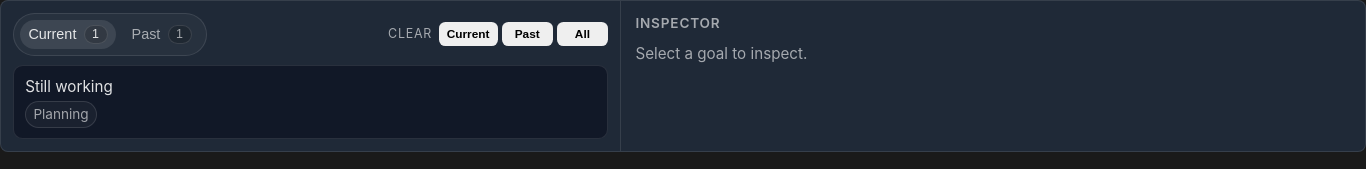
it: GoalsPanel › treats merged lifecycle goals as past even when status is not ready
The image size is (1366, 169).
Expected: the tab with test id "goals-tab-filter-current" is shown, [20,20,116,49]
Expected: the text "Still working" is shown, [25,77,113,96]
What coordinates should you click on to do the following:
click the tab with test id "goals-tab-filter-past"
I would click on:
 (162, 34)
Its box is [123,20,200,49].
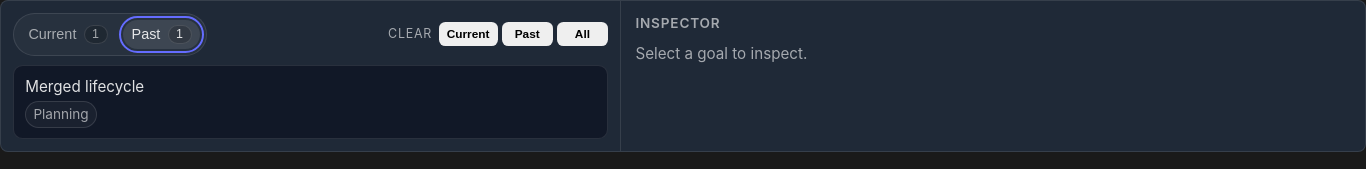
Expected: the text "Merged lifecycle" is shown, [25,77,144,96]
Expected: the button "Still working" is gone
